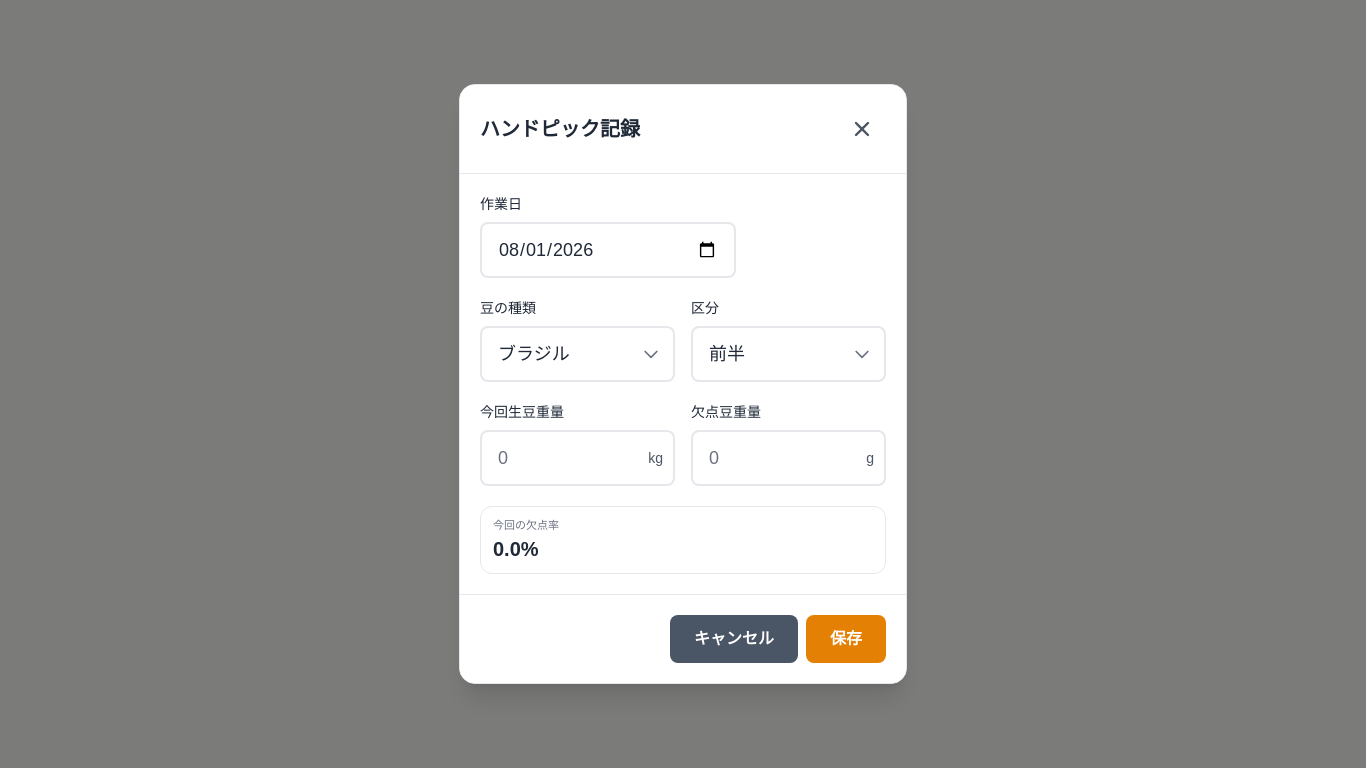
HandpickEntryModal › 欠点率をリアルタイム表示する（500g中50g→10.0%）
The width and height of the screenshot is (1366, 768).
Type "0.5" into the number field labelled "今回生豆重量" at (578, 458), box [480,430,675,486]
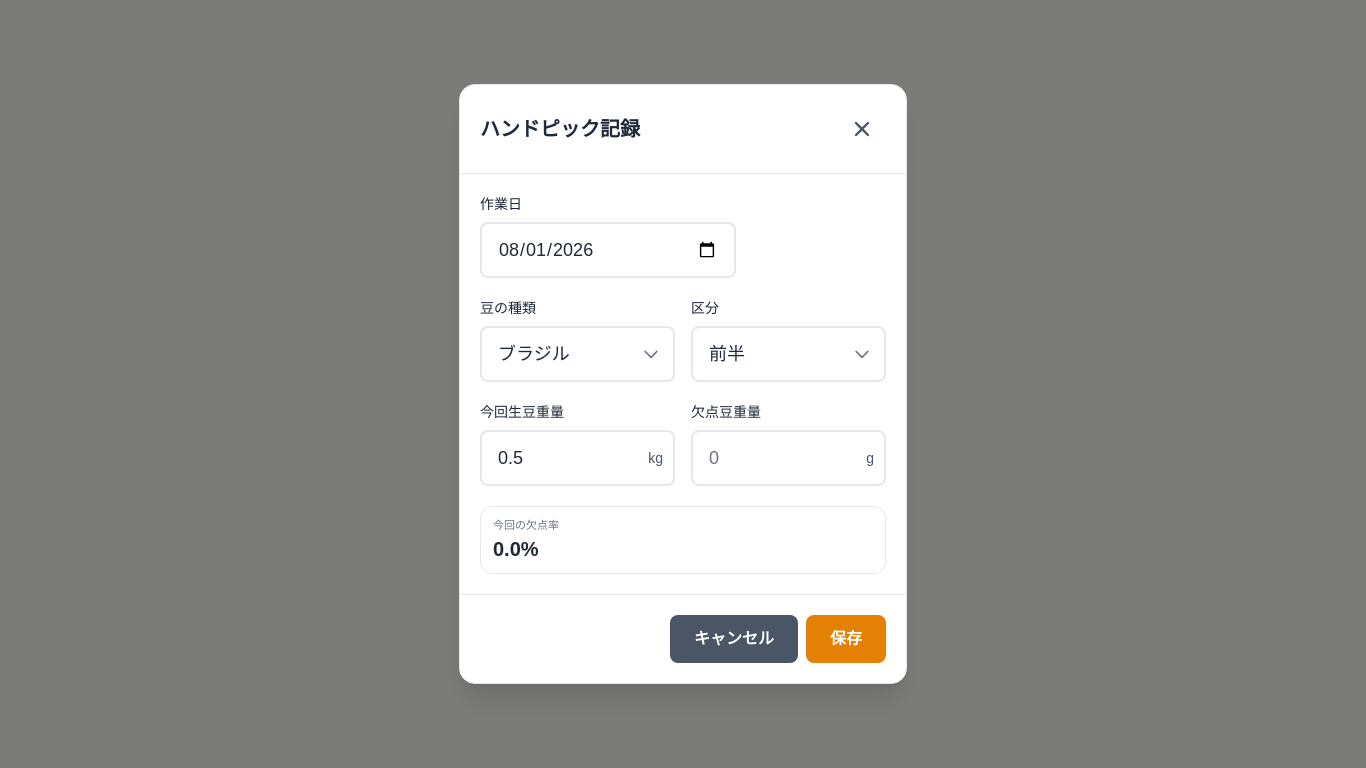
Type "50" into the number field labelled "欠点豆重量" at (788, 458), box [691,430,886,486]
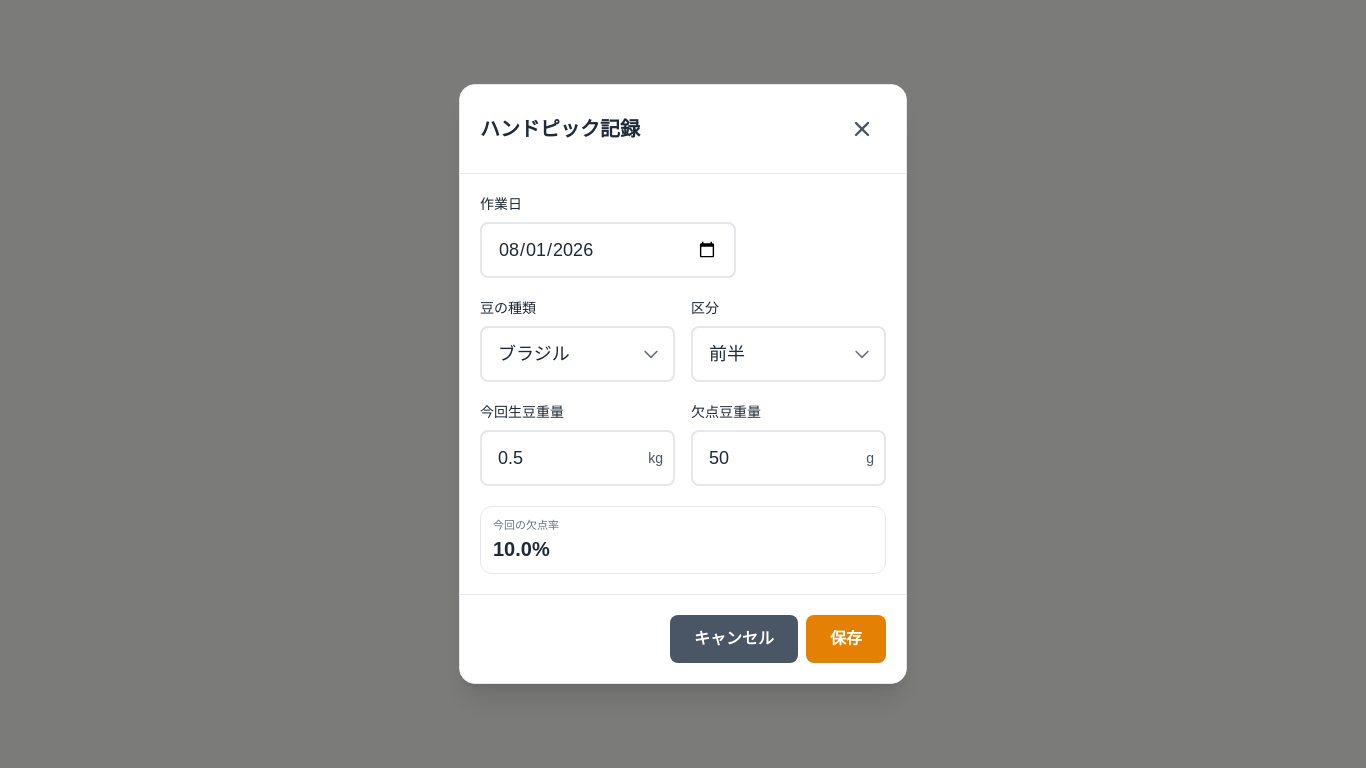
Check: the text "10.0%" is shown, box [493,538,550,560]
